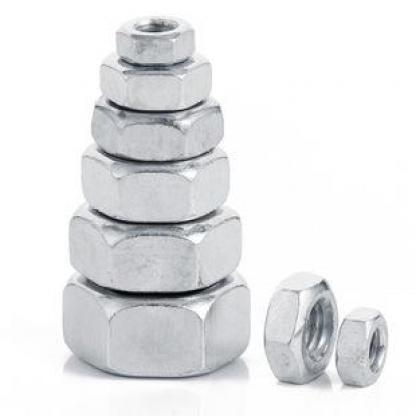FOD: (58, 263, 254, 378), (65, 194, 245, 293), (76, 134, 233, 227), (84, 89, 226, 165), (263, 268, 341, 387), (91, 55, 218, 114), (334, 303, 392, 391), (112, 16, 198, 66)
